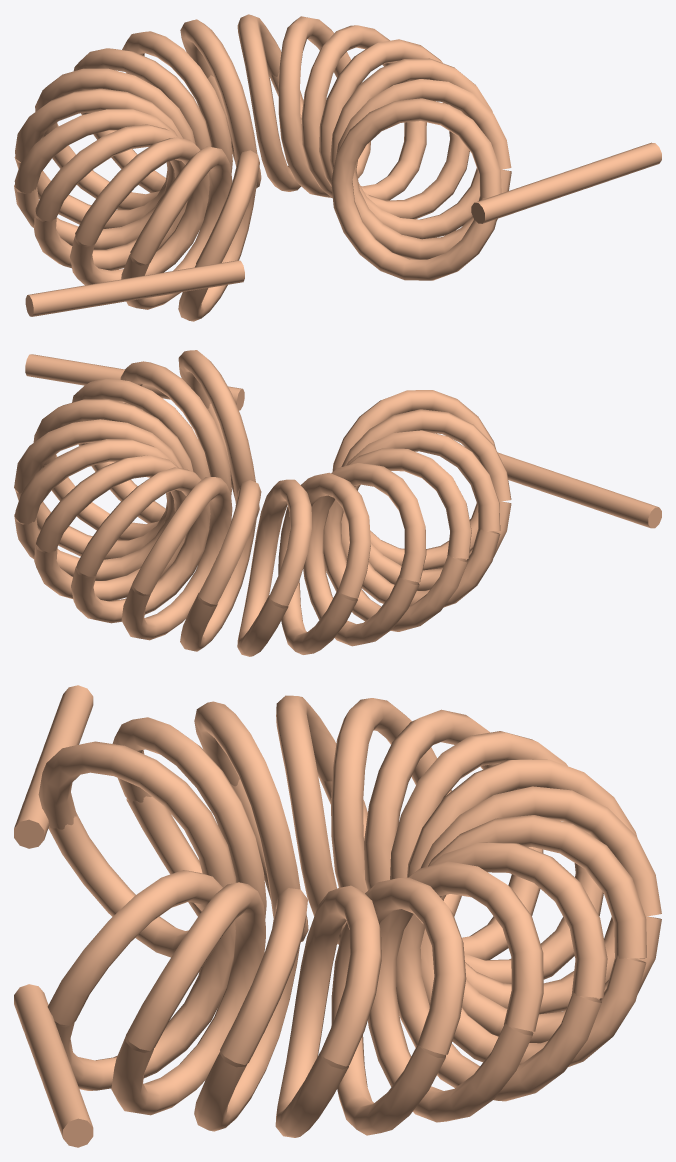
File: toroid-winding.glb
3 renders of one model, top to bottom at view 1: azimuth 30°, elevation 25°; view 2: azimuth 150°, elevation 25°; view 3: azimuth 270°, elevation 25°, orthographic. The views are drawn at different scales.
Parts seen in each view (by area): view 1: toroid_winding; view 2: toroid_winding; view 3: toroid_winding.
Part boxes in pixels (x1=…): toroid_winding: x1=14, y1=14, x2=661, y2=321; toroid_winding: x1=14, y1=350, x2=661, y2=656; toroid_winding: x1=14, y1=685, x2=661, y2=1147.
Bounding box in the file's own units: 15.31 × 3.76 × 9.63.
